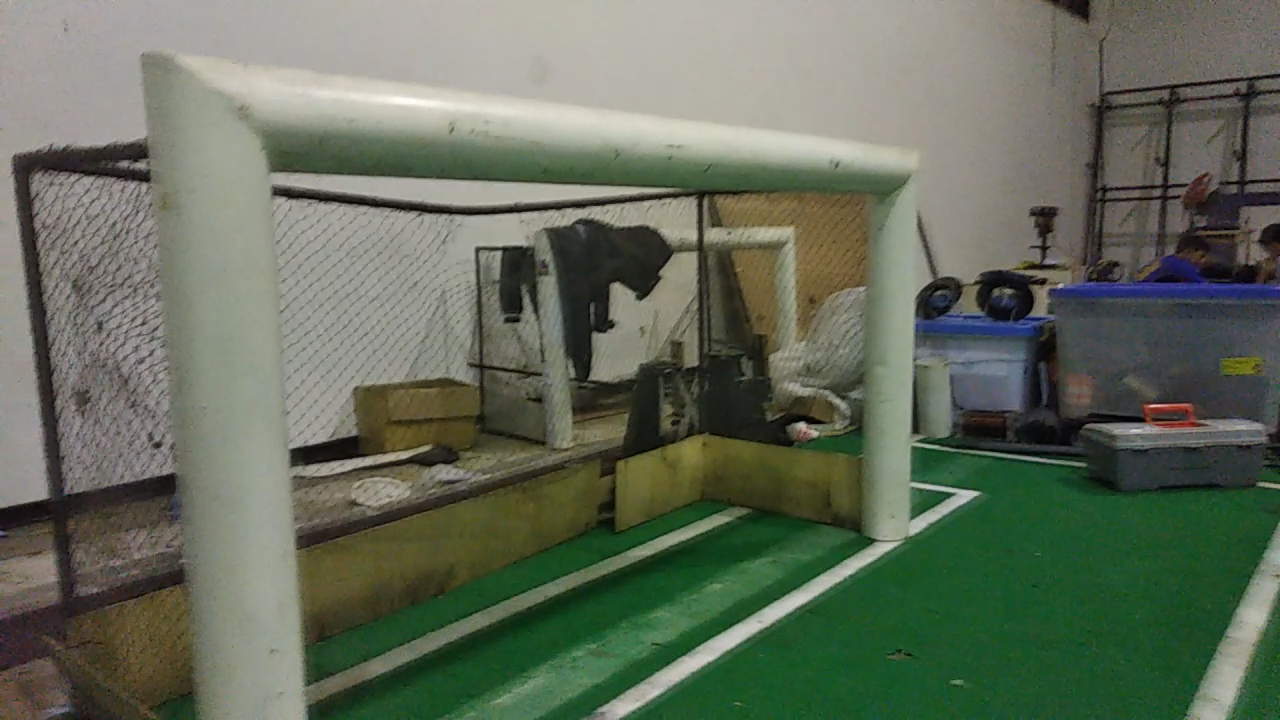gawang: (122, 37, 938, 717)
